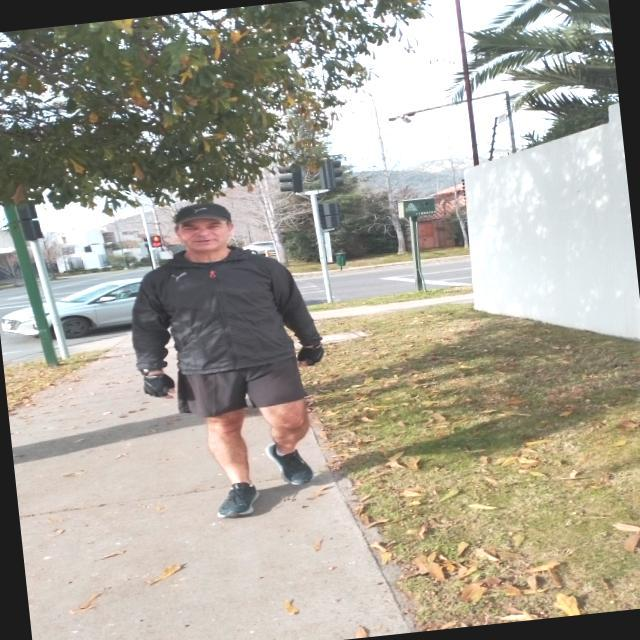person: (95, 180, 342, 542)
